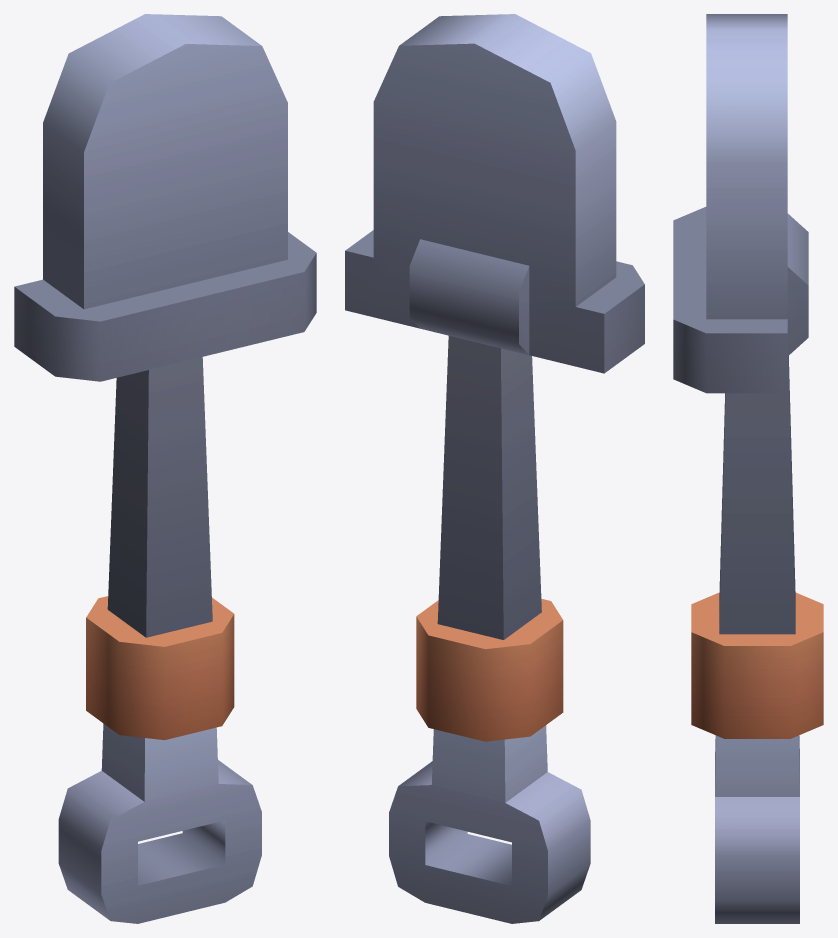
File: tool-shovel-upgraded.glb
3 views of the same model, side by side, from view 1: azimuth 30°, elevation 25°; view 2: azimuth 150°, elevation 25°; view 3: azimuth 270°, elevation 25° (orthographic).
Visible parts, largest first — view 1: tool-shovel-upgraded; view 2: tool-shovel-upgraded; view 3: tool-shovel-upgraded.
Part boxes in pixels (x1,y1,x2,y2): tool-shovel-upgraded: [14, 14, 316, 923]; tool-shovel-upgraded: [345, 14, 644, 923]; tool-shovel-upgraded: [673, 14, 823, 923].
Bounding box in the file's own units: 0.0909 × 0.29 × 0.0455.
Materials: 1 (1 with a texture image).
